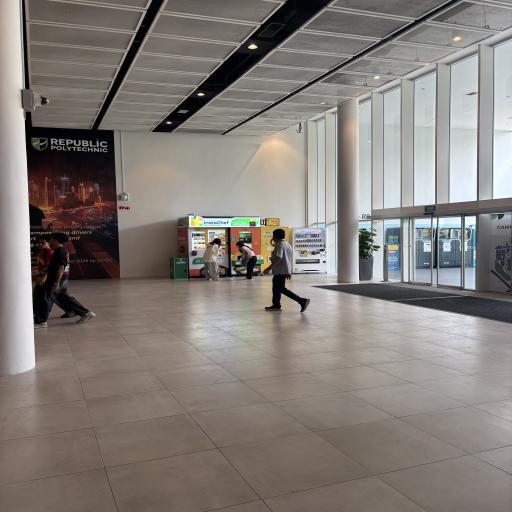person_left: (257, 222, 313, 322), (42, 224, 74, 328)
